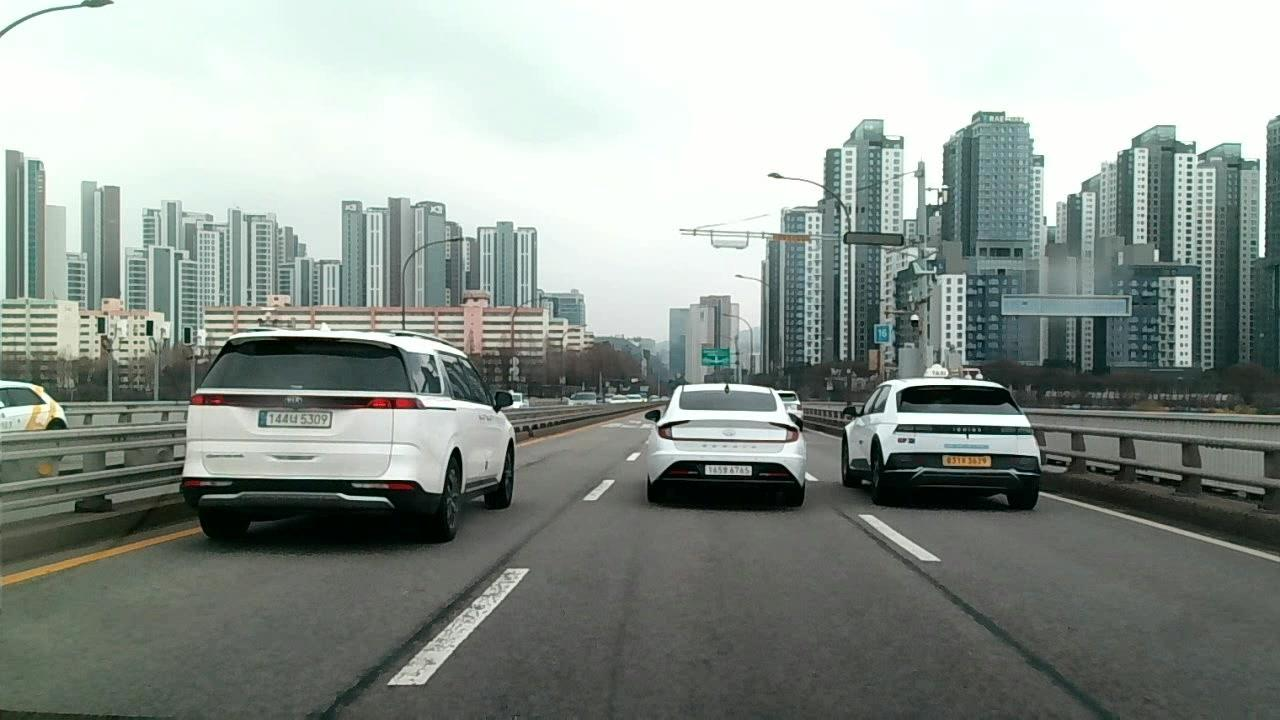banner: (312, 554, 510, 720), (958, 600, 1106, 720), (835, 509, 958, 599)
